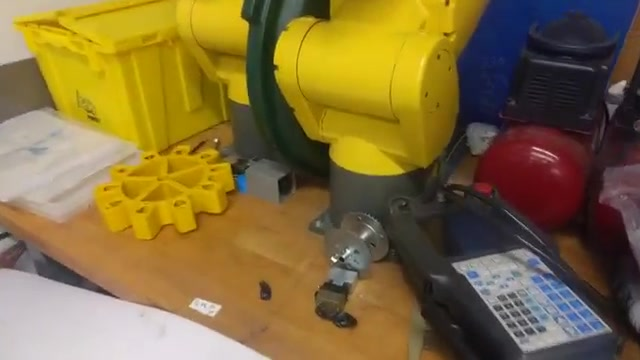gear: (91, 139, 237, 240)
